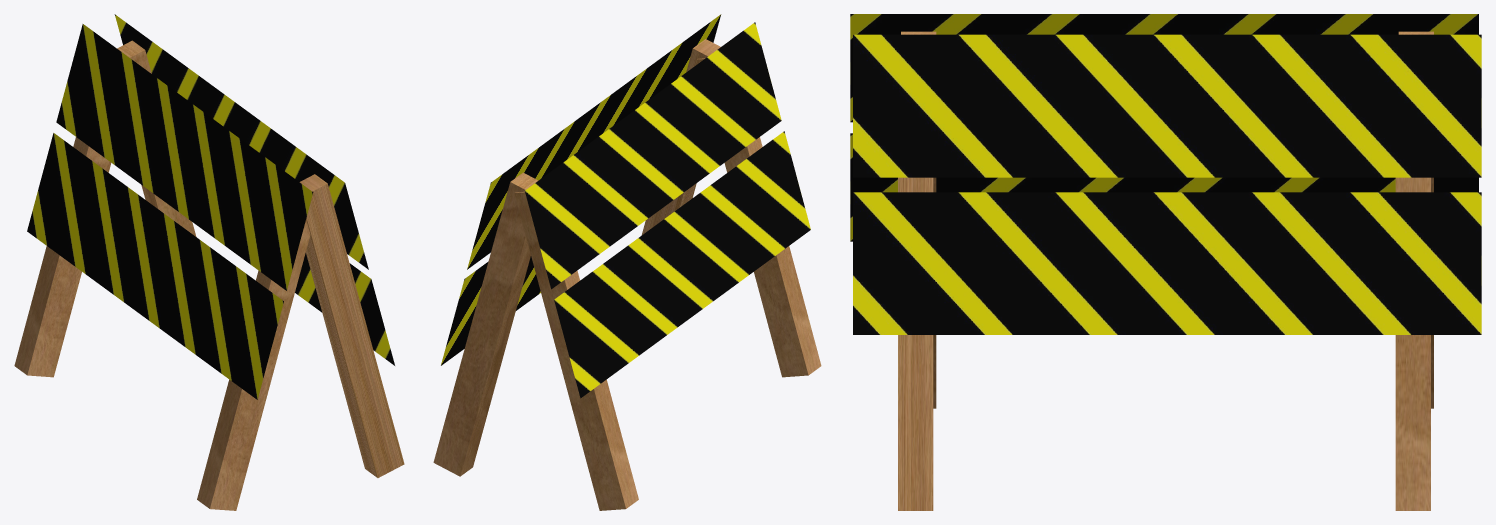
Rendered from tabua.fbx.
The picture shows the model from 3 angles, left to right: view 1: azimuth 30°, elevation 25°; view 2: azimuth 150°, elevation 25°; view 3: azimuth 270°, elevation 25°; orthographic projection. The views are drawn at different scales.
Visible parts, largest first — view 1: Plano.002, Plano.003, Cube, Plano.001, Cube.002, Cube.003, Plano, Cube.001; view 2: Plano.003, Plano.002, Cube.001, Plano.001, Cube.003, Cube.002, Plano, Cube; view 3: Plano.001, Plano, Plano.002, Plano.003, Cube.001, Cube.
Part boxes in pixels (x1,y1,x2,y2): Plano.002: (56, 24, 313, 290); Plano.003: (27, 133, 283, 399); Cube: (299, 174, 404, 477); Plano.001: (114, 14, 368, 269); Cube.002: (197, 219, 310, 510); Cube.003: (14, 137, 111, 377); Plano: (295, 253, 394, 365); Cube.001: (117, 40, 196, 236); Plano.003: (554, 131, 810, 398); Plano.002: (525, 22, 781, 289); Cube.001: (433, 172, 538, 476); Plano.001: (467, 14, 721, 269); Cube.003: (514, 191, 638, 510); Cube.002: (697, 58, 821, 377); Plano: (441, 256, 540, 365); Cube: (642, 39, 720, 234); Plano.001: (853, 34, 1481, 177); Plano: (853, 192, 1481, 334); Plano.002: (850, 14, 1478, 122); Plano.003: (850, 133, 1478, 241); Cube.001: (1395, 177, 1430, 510); Cube: (898, 177, 933, 510).
Size of the model in its own units: 22.12 by 14.02 by 29.04.
Materials: 2 (2 with a texture image).
